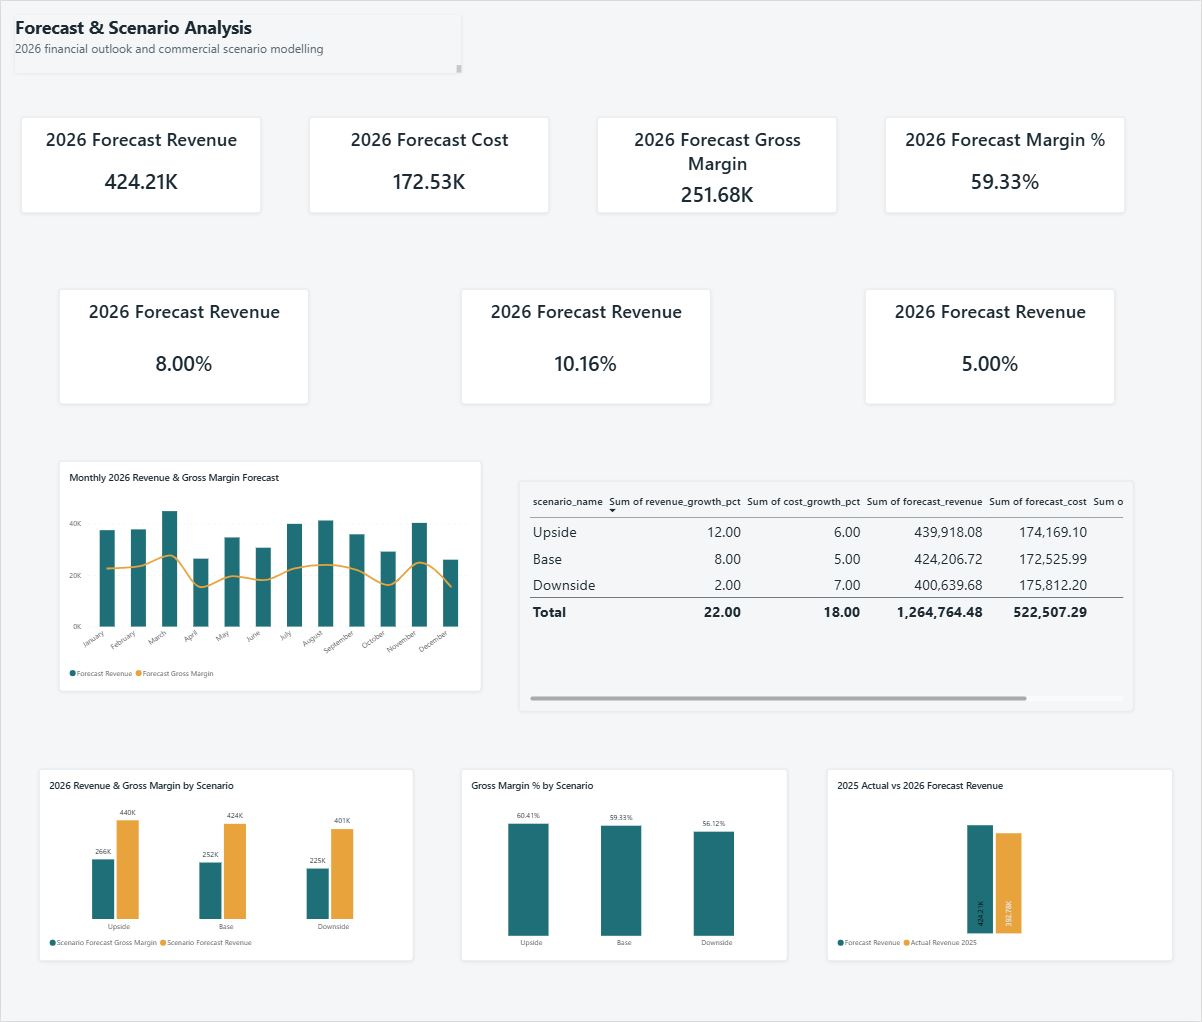

The dashboard page shown, as its layout file describes it:
{"tool":"powerbi","page":{"name":"Forecast & Scenarios","canvas":[2000,1700],"ordinal":3},"visuals":[{"type":"textbox","title":"Forecast & Scenario Analysis","box":[24,24,744,96],"z":0},{"type":"card","title":"2026 Forecast Revenue","fields":{"Values":["_Measures.Forecast Revenue"]},"box":[32,192,400,160],"z":1000},{"type":"card","title":"2026 Forecast Cost","fields":{"Values":["_Measures.Forecast Cost"]},"box":[512,192,400,160],"z":2000},{"type":"card","title":"2026 Forecast Gross Margin","fields":{"Values":["_Measures.Forecast Gross Margin"]},"box":[992,192,400,160],"z":3000},{"type":"card","title":"2026 Forecast Margin %","fields":{"Values":["_Measures.Forecast Gross Margin %"]},"box":[1472,192,400,160],"z":4000},{"type":"card","title":"2026 Forecast Revenue","fields":{"Values":["_Measures.Forecast Revenue Growth %"]},"box":[96,480,416,192],"z":5000},{"type":"card","title":"2026 Forecast Revenue","fields":{"Values":["_Measures.Forecast Cost Growth %"]},"box":[1440,480,416,192],"z":6000},{"type":"lineClusteredColumnComboChart","title":"Monthly 2026 Revenue & Gross Margin Forecast","fields":{"Category":["DateTable.Month Name"],"Y2":["_Measures.Forecast Gross Margin"],"Y":["_Measures.Forecast Revenue"]},"box":[96,768,704,384],"z":7000},{"type":"clusteredColumnChart","title":"2026 Revenue & Gross Margin by Scenario","fields":{"Category":["vw_scenario_analysis.scenario_name"],"Y":["_Measures.Scenario Forecast Gross Margin","_Measures.Scenario Forecast Revenue"]},"box":[64,1280,624,320],"z":8000},{"type":"clusteredColumnChart","title":"Gross Margin % by Scenario","fields":{"Category":["vw_scenario_analysis.scenario_name"],"Y":["_Measures.Scenario Margin %"]},"box":[768,1280,544,320],"z":9000},{"type":"tableEx","fields":{"Values":["vw_scenario_analysis.scenario_name","Sum(vw_scenario_analysis.revenue_growth_pct)","Sum(vw_scenario_analysis.cost_growth_pct)","Sum(vw_scenario_analysis.forecast_revenue)","Sum(vw_scenario_analysis.forecast_cost)","Sum(vw_scenario_analysis.forecast_gross_margin)"]},"box":[864,800,1024,384],"z":10000},{"type":"clusteredColumnChart","title":"2025 Actual vs 2026 Forecast Revenue","fields":{"Y":["_Measures.Forecast Revenue","_Measures.Actual Revenue 2025"]},"box":[1376,1280,576,320],"z":11000},{"type":"card","title":"2026 Forecast Revenue","fields":{"Values":["_Measures.Forecast Gross Margin Growth %"]},"box":[768,480,416,192],"z":12000}]}

Visuals, with their boxes in screenshot pixels (x1, y1, x2, y2), scaled from the page's 2000x1700 canvas onto the 1202x1022 screenshot:
"Forecast & Scenario Analysis" textbox: box=[14, 14, 462, 72]
"2026 Forecast Revenue" card: box=[19, 115, 260, 212]
"2026 Forecast Cost" card: box=[308, 115, 548, 212]
"2026 Forecast Gross Margin" card: box=[596, 115, 837, 212]
"2026 Forecast Margin %" card: box=[885, 115, 1125, 212]
"2026 Forecast Revenue" card: box=[58, 289, 308, 404]
"2026 Forecast Revenue" card: box=[865, 289, 1115, 404]
"Monthly 2026 Revenue & Gross Margin Forecast" lineClusteredColumnComboChart: box=[58, 462, 481, 693]
"2026 Revenue & Gross Margin by Scenario" clusteredColumnChart: box=[38, 770, 413, 962]
"Gross Margin % by Scenario" clusteredColumnChart: box=[462, 770, 789, 962]
tableEx - vw_scenario_analysis.scenario_name x Sum(vw_scenario_analysis.revenue_growth_pct): box=[519, 481, 1135, 712]
"2025 Actual vs 2026 Forecast Revenue" clusteredColumnChart: box=[827, 770, 1173, 962]
"2026 Forecast Revenue" card: box=[462, 289, 712, 404]
